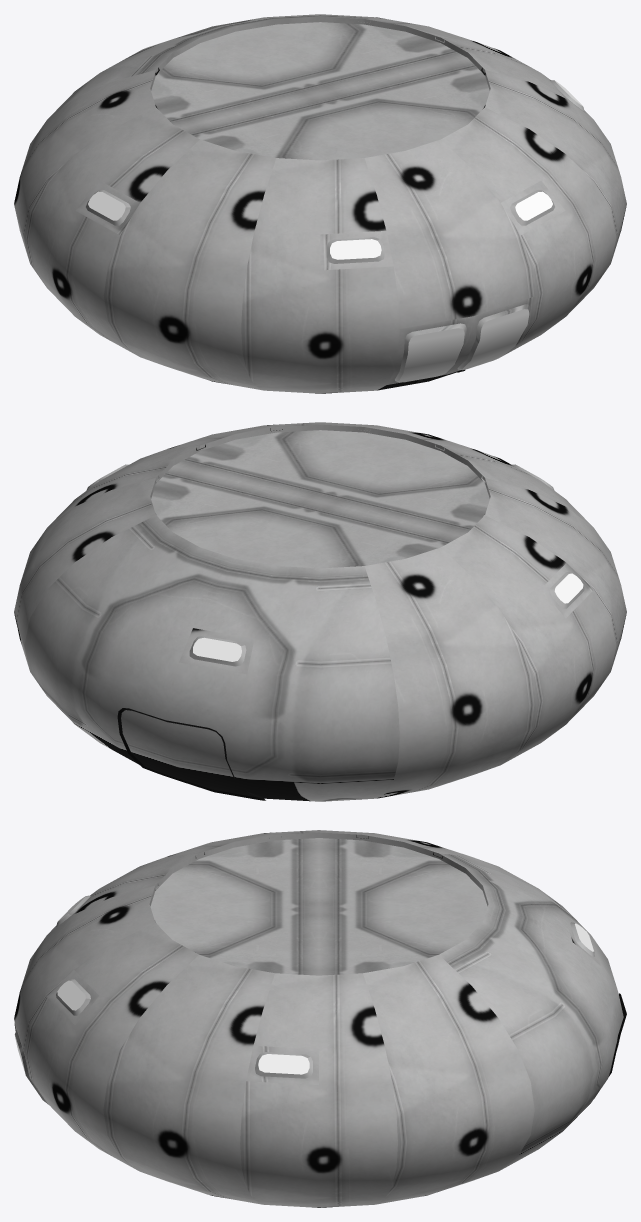
File: mesbin_lander_iva.fbx
3 views of the same model, one above another, from view 1: azimuth 30°, elevation 25°; view 2: azimuth 150°, elevation 25°; view 3: azimuth 270°, elevation 25° (orthographic).
Visible parts, largest first — view 1: mesh, mesh_windows; view 2: mesh, mesh_windows; view 3: mesh, mesh_windows.
Part boxes in pixels (bbox=[...]): mesh: bbox=[14, 14, 626, 393]; mesh_windows: bbox=[88, 81, 582, 382]; mesh: bbox=[14, 422, 626, 801]; mesh_windows: bbox=[193, 573, 583, 661]; mesh: bbox=[14, 830, 626, 1207]; mesh_windows: bbox=[15, 896, 593, 1074].
Bounding box in the file's own units: 2.5 × 1.04 × 2.51.
